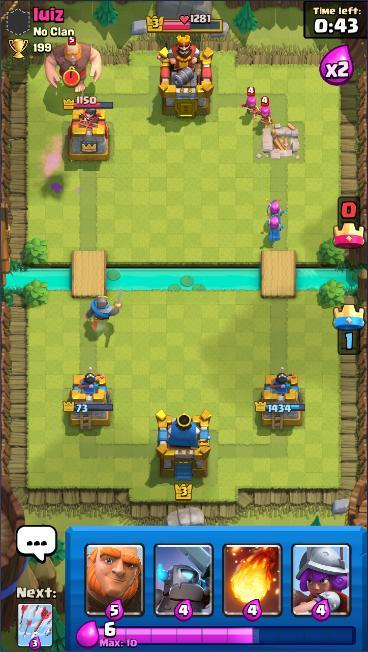ally_archer: (262, 195, 287, 223), (262, 214, 287, 241)
ally_knight: (84, 290, 125, 322)
enemy_archer: (241, 85, 261, 117), (257, 96, 276, 127)
enemy_giant: (44, 35, 103, 94)
